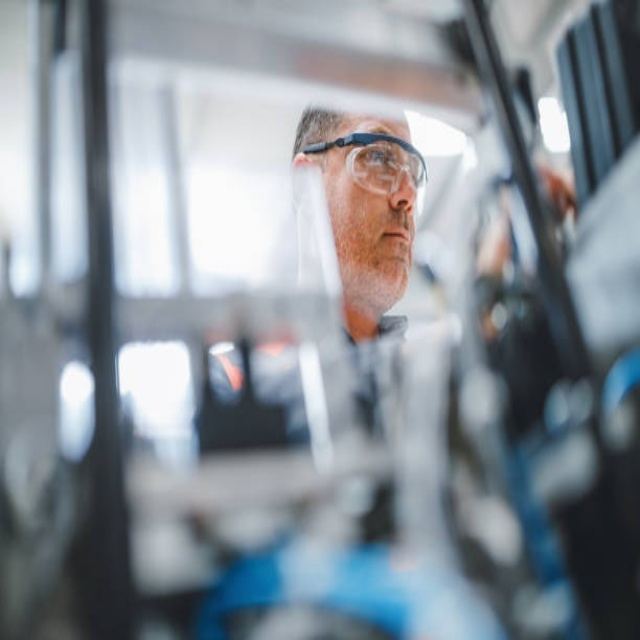Gafas: (301, 133, 427, 197)
Sin_mascara: (366, 216, 414, 284)
